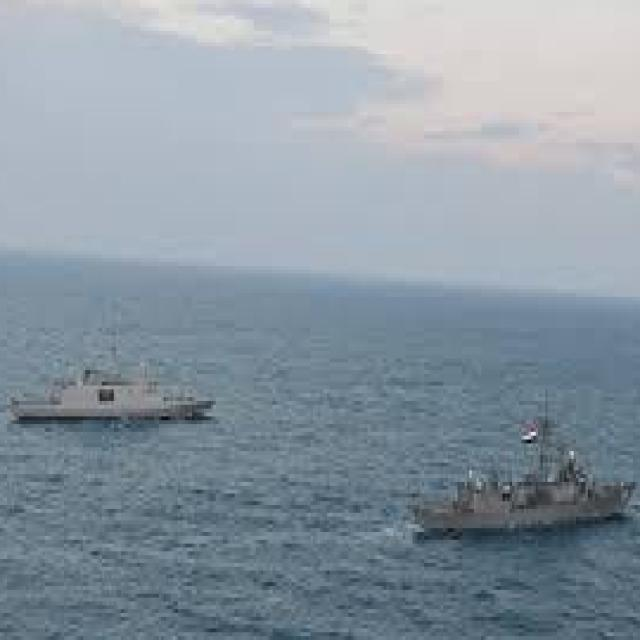navalvessels: (414, 402, 622, 562), (4, 315, 229, 431)
